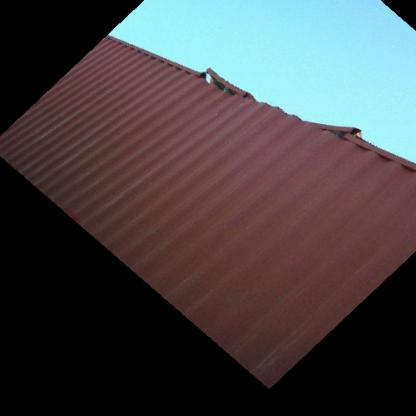Damage: (280, 107, 366, 160), (194, 60, 262, 106)
